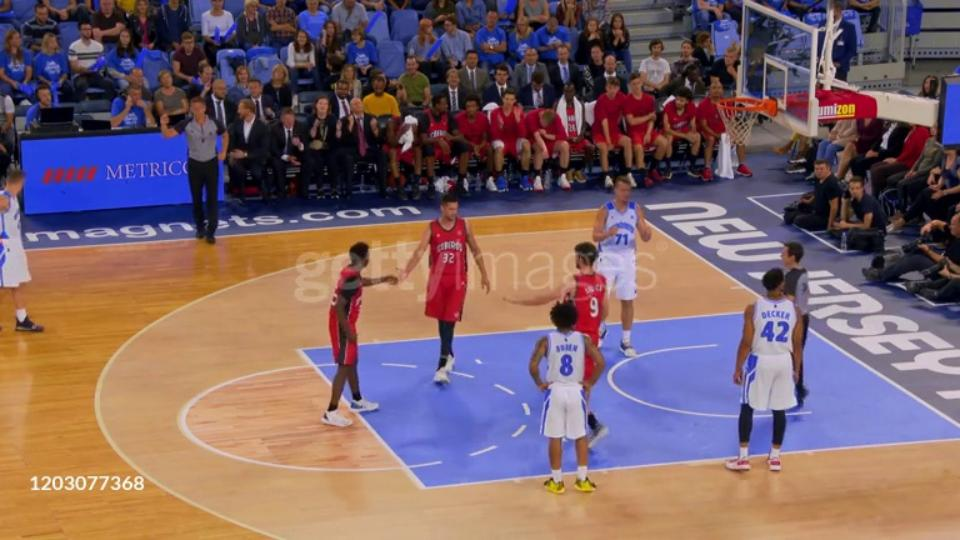hoop: (712, 95, 781, 122)
